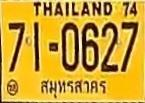0: (61, 21, 78, 70)
1: (33, 21, 41, 72)
2: (101, 22, 119, 71)
6: (81, 22, 98, 70)
7: (121, 21, 138, 72), (8, 22, 25, 72)
SKN: (36, 76, 110, 99)
